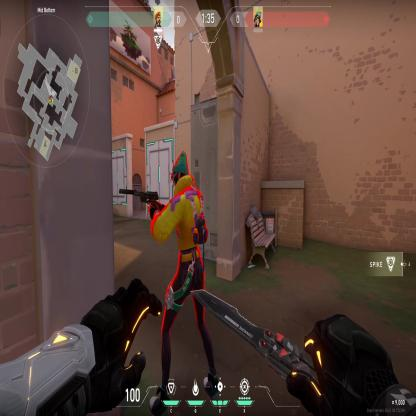enemy: (161, 150, 206, 288)
